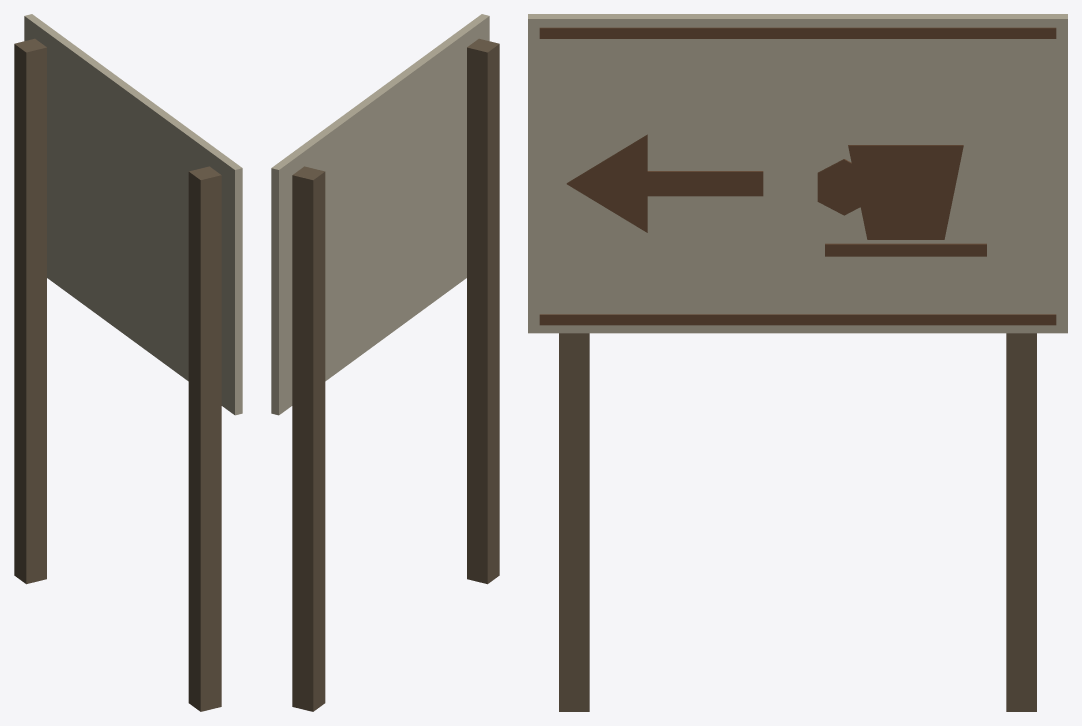
The model's file is SM_Prop_road_cafesign_2_LOD1.glb.
3 views of the same model, side by side, from view 1: azimuth 30°, elevation 25°; view 2: azimuth 150°, elevation 25°; view 3: azimuth 270°, elevation 25° (orthographic). The views are drawn at different scales.
Parts seen in each view (by area): view 1: SM_Prop_road_cafesign_2_LOD1; view 2: SM_Prop_road_cafesign_2_LOD1; view 3: SM_Prop_road_cafesign_2_LOD1.
Part boxes in pixels (<box>): SM_Prop_road_cafesign_2_LOD1: <box>14,14,242,711</box>; SM_Prop_road_cafesign_2_LOD1: <box>271,14,499,711</box>; SM_Prop_road_cafesign_2_LOD1: <box>528,14,1067,711</box>.
Size of the model in its own units: 0.122 by 2 by 1.4.
